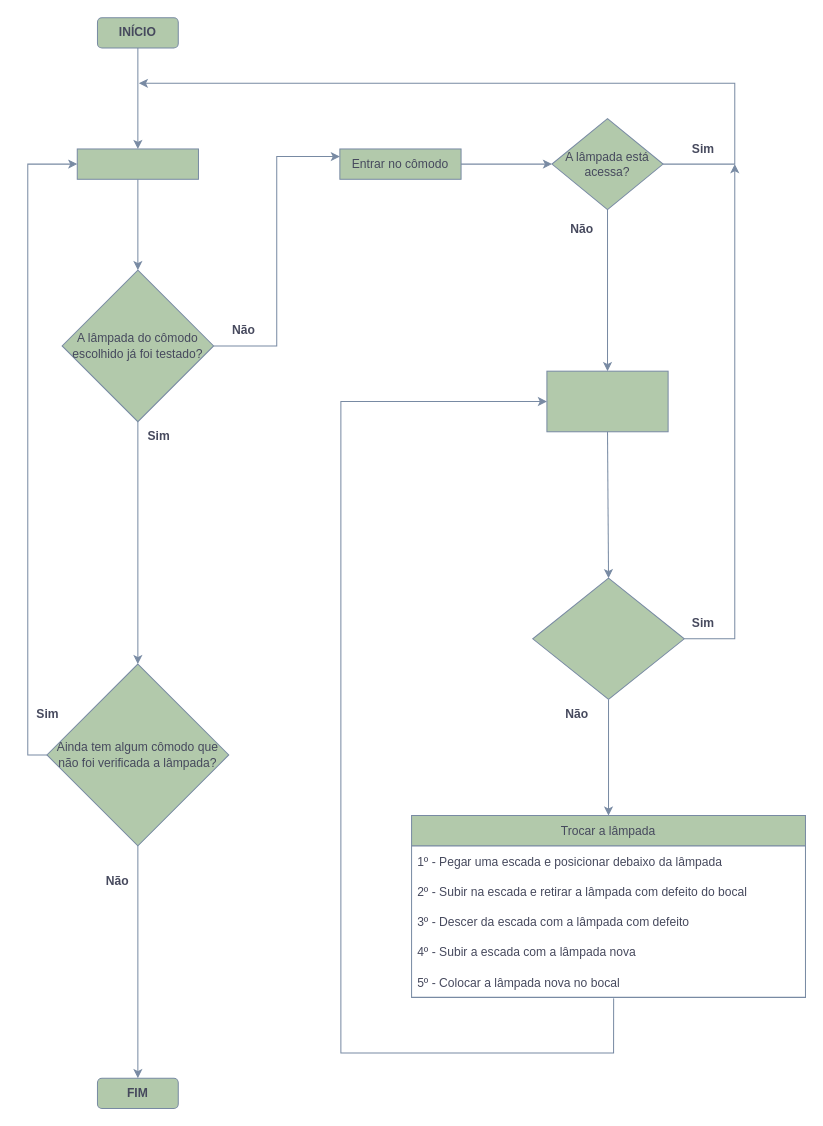
Image size: 823x1126. Some labels were removed from this diagram. The shapes that lost their labels are listed below. From the top down, each one's centre as x and y in pixels, then its label:
(137,163): Escolher um cômodo
(607,401): Acionar o interruptor da lâmpada
(608,638): A lâmpada acendeu?
